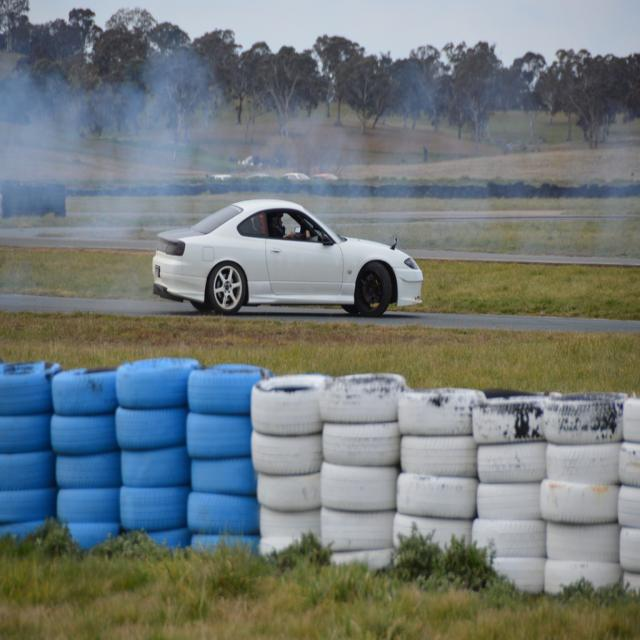car: (145, 190, 427, 314)
